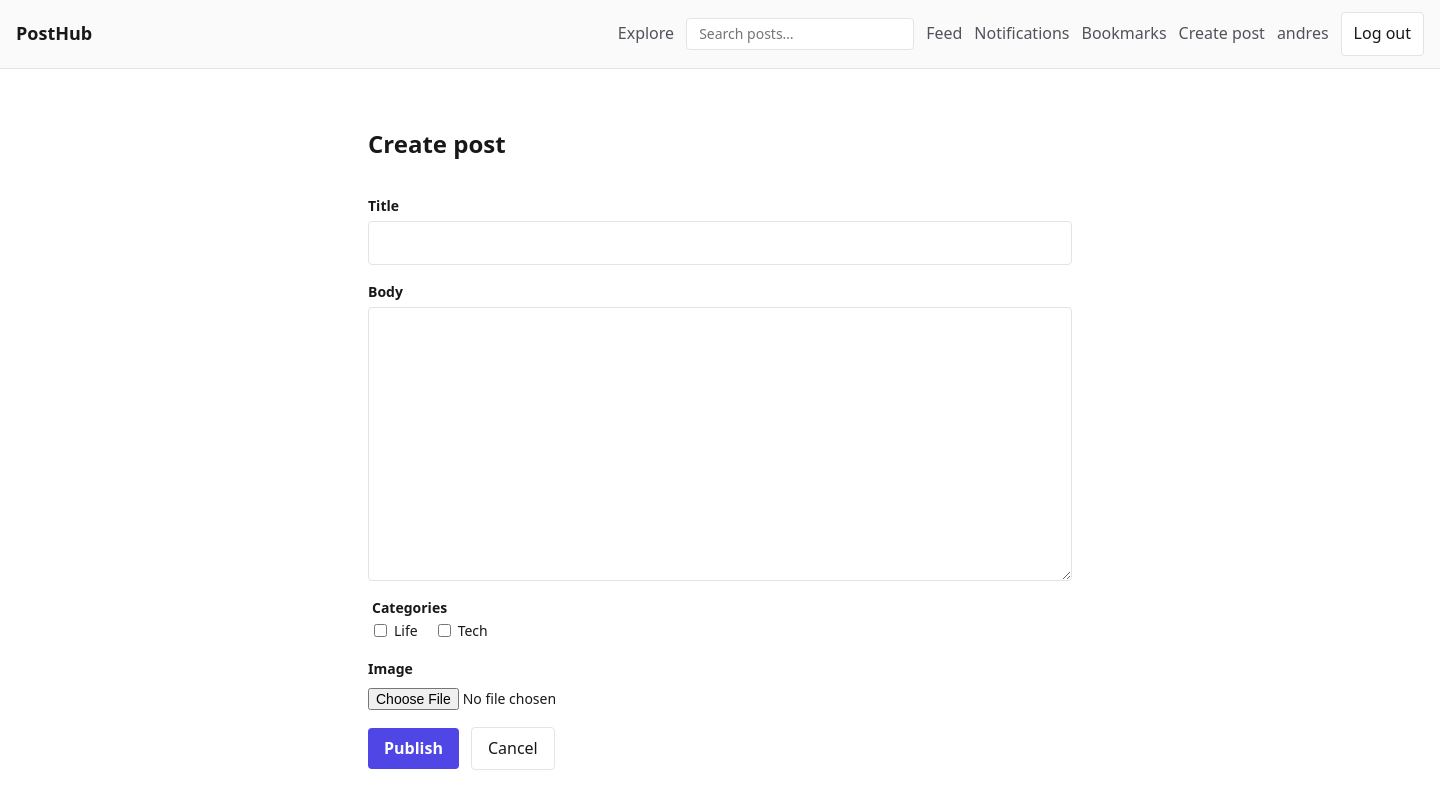
it: Create / edit / delete post › creates a post and lands on its detail
Type "My New Post" into the field labelled "Title". click: point(720, 243)
box: [368,221,1072,265]
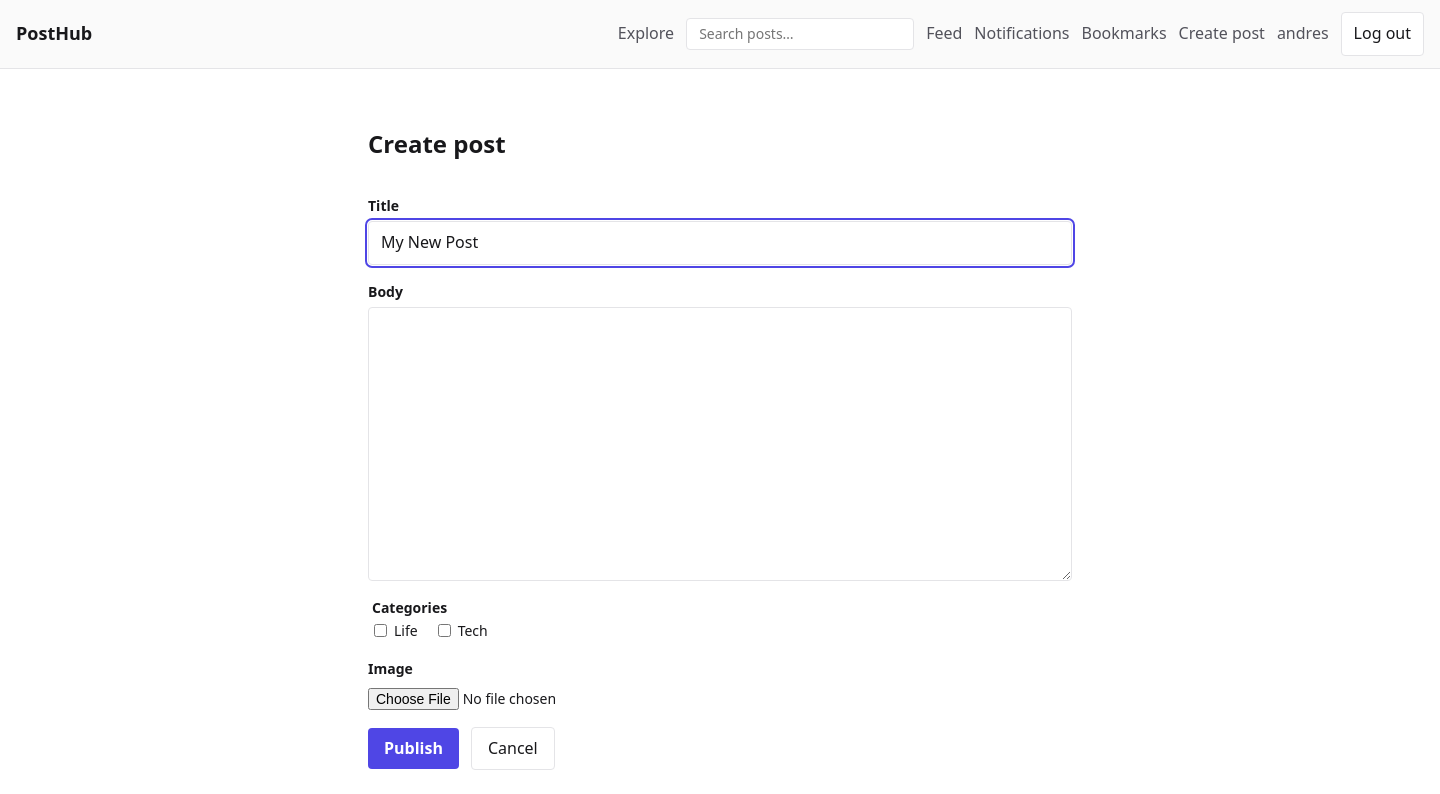
Type "Body text." into the text box labelled "Body". click: point(720, 444)
box: [368,307,1072,581]
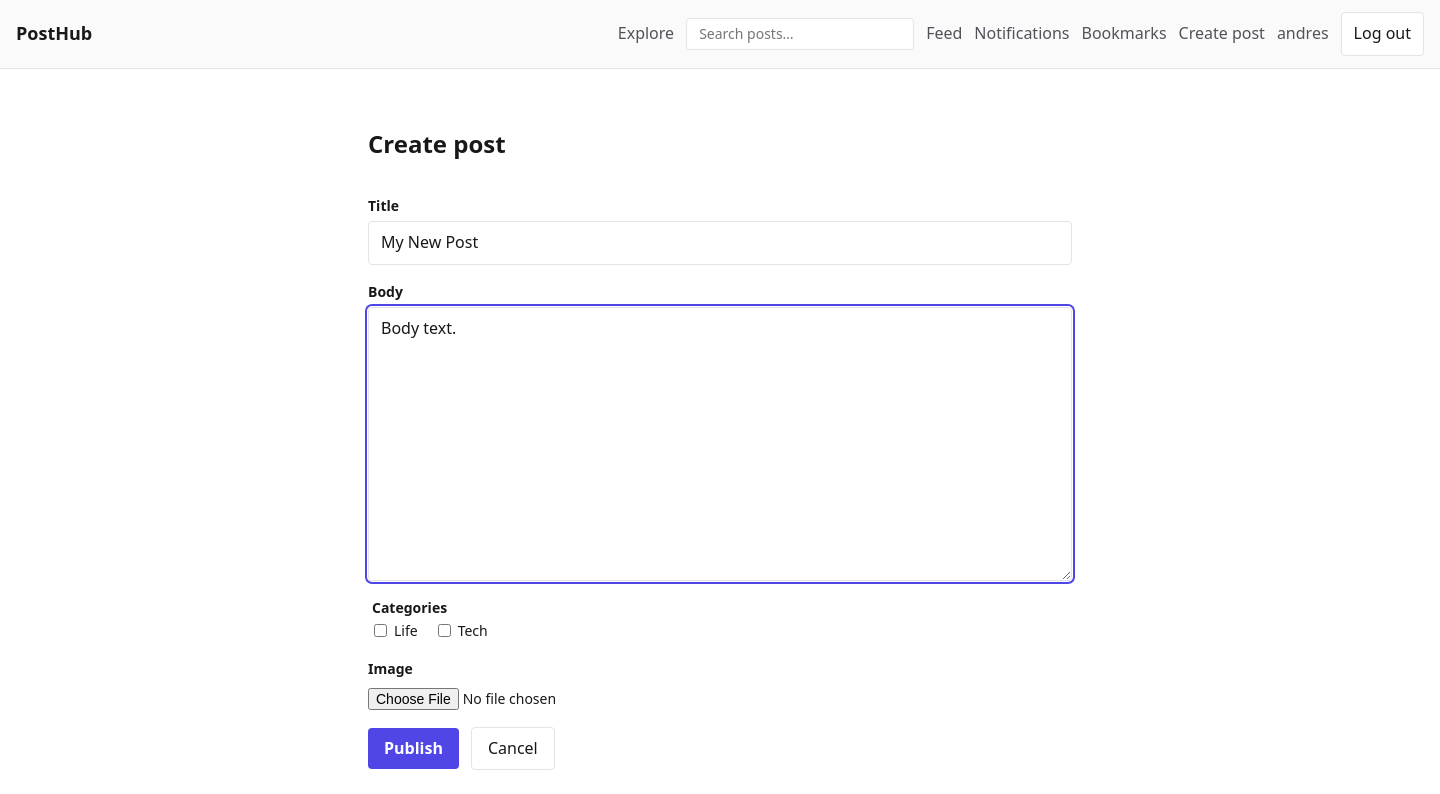
Click the checkbox labelled "Tech". click: point(444, 631)
box: [438,624,451,637]
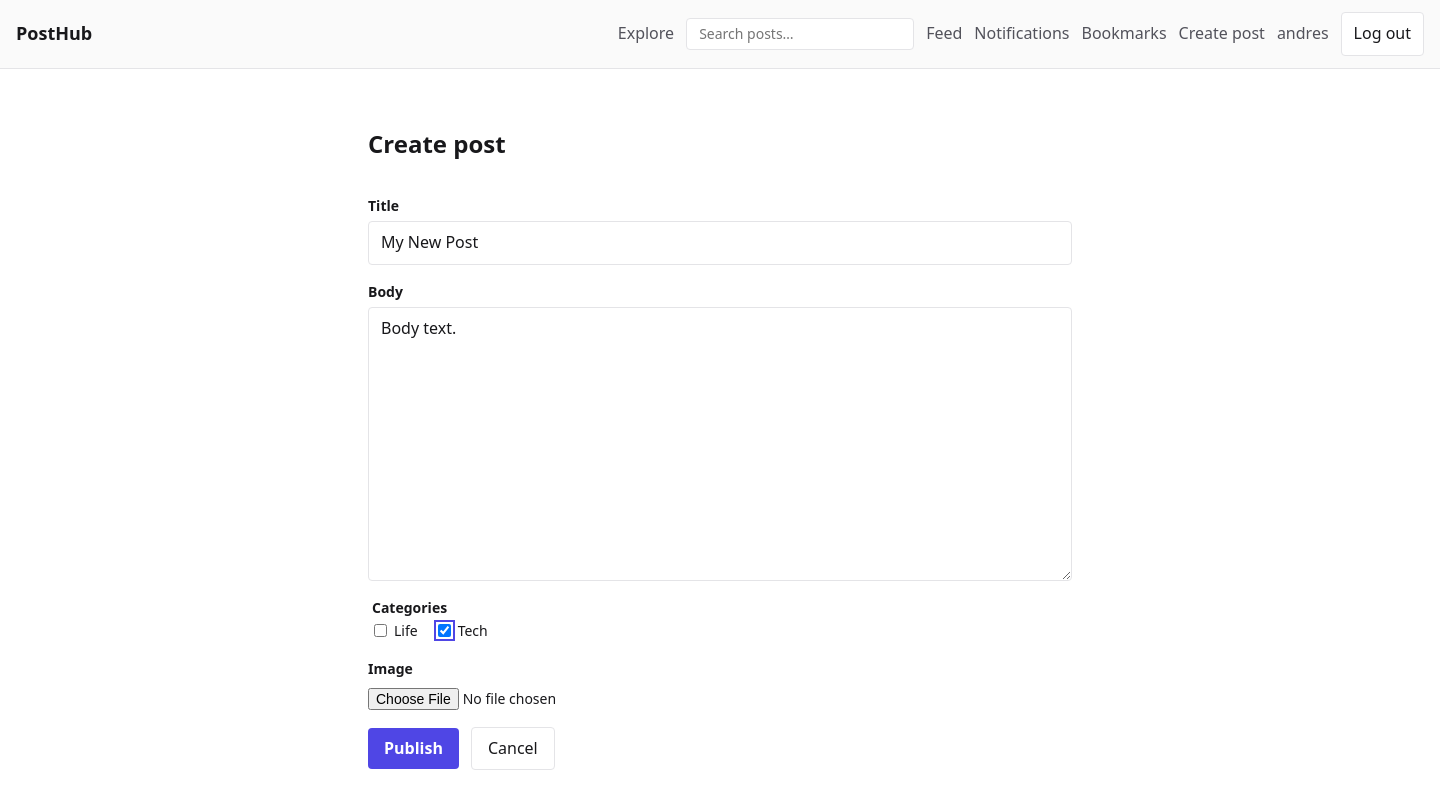
Click the button "Publish". click: point(413, 749)
box: [368,728,459,770]
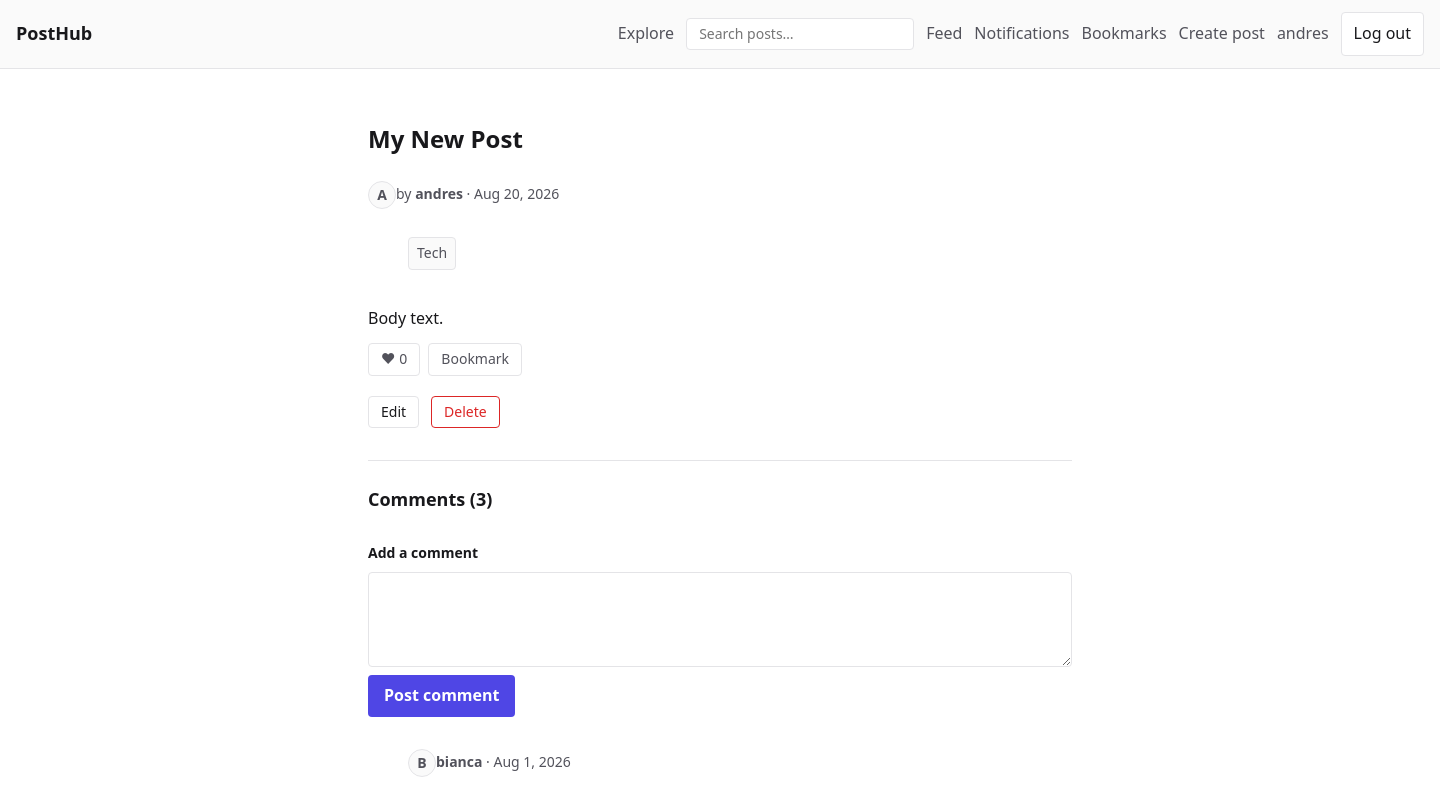
Now the heading "My New Post" is shown, box [368,122,523,155]
